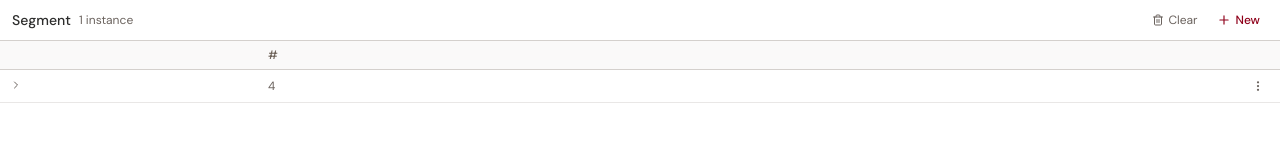
Test case: InstanceTable › resolves inherited target instances instead of showing them as deleted
Click the 3rd button at (16, 85), box [8,77,24,93]
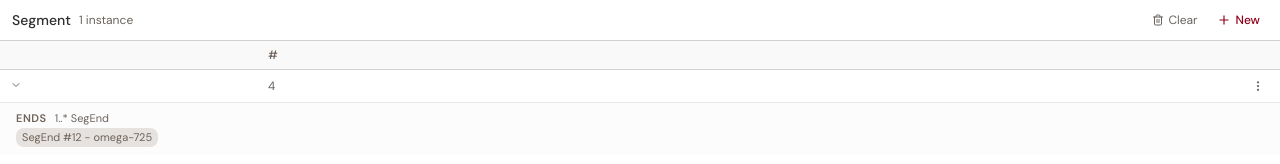
Expected: the text "SegEnd #12 - omega-725" is shown, [16,128,158,147]
